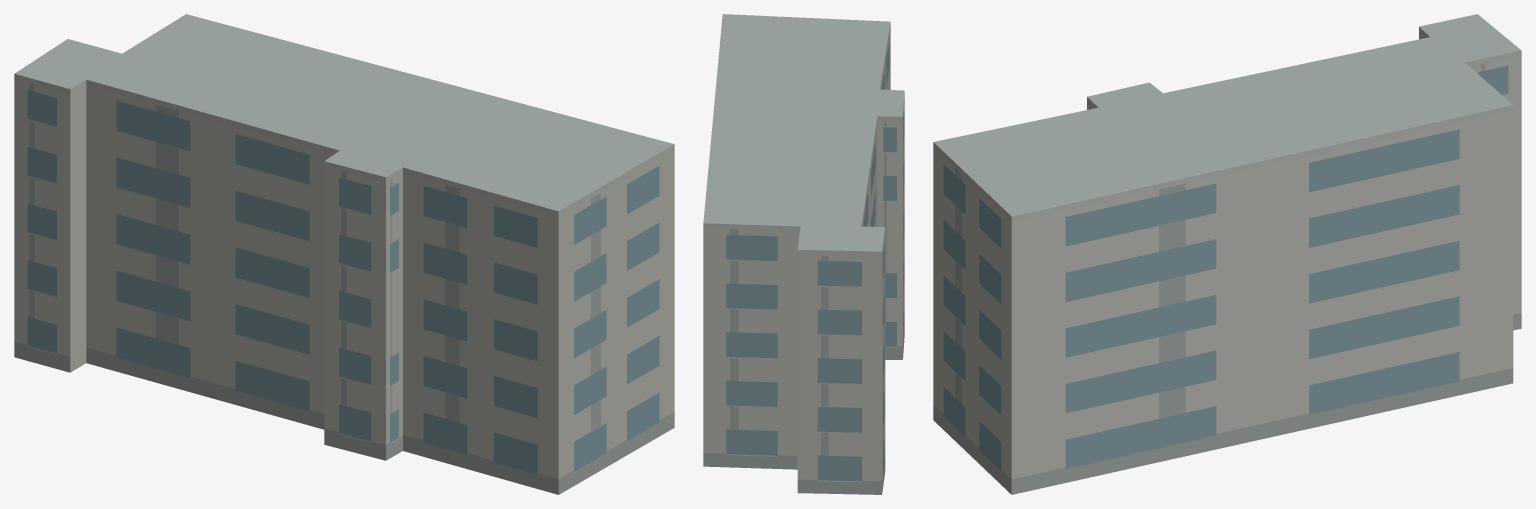
File: survey-upis-32697336.glb
3 views of the same model, side by side, from view 1: azimuth 30°, elevation 25°; view 2: azimuth 150°, elevation 25°; view 3: azimuth 270°, elevation 25° (orthographic). The views are drawn at different scales.
Visible parts, largest first — view 1: survey-upis-32697336.tmp; view 2: survey-upis-32697336.tmp; view 3: survey-upis-32697336.tmp.
Part boxes in pixels (bbox=[...]): survey-upis-32697336.tmp: bbox=[14, 14, 674, 494]; survey-upis-32697336.tmp: bbox=[703, 14, 904, 494]; survey-upis-32697336.tmp: bbox=[933, 14, 1521, 494].
Size of the model in its own units: 19.25 by 12.32 by 23.61.
